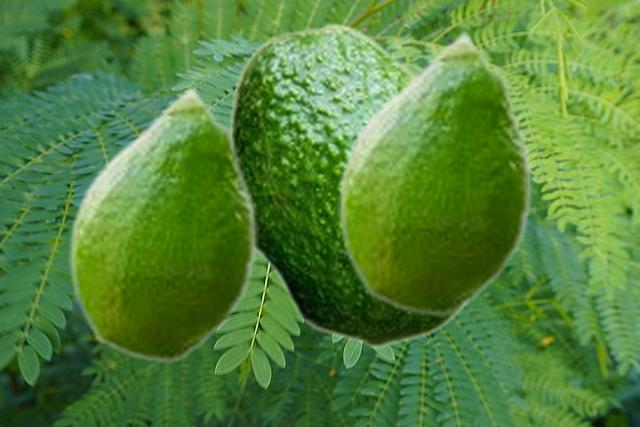avocado: (226, 21, 472, 347), (337, 28, 532, 316), (68, 83, 257, 362)
